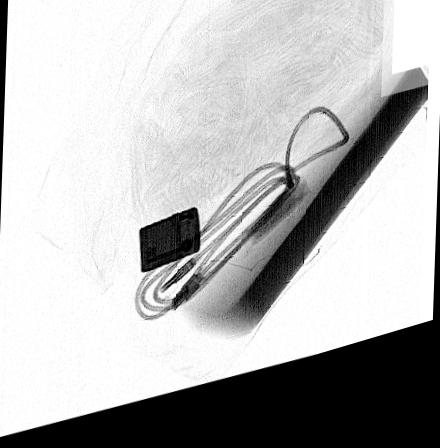Lighter: (138, 217, 200, 281)
